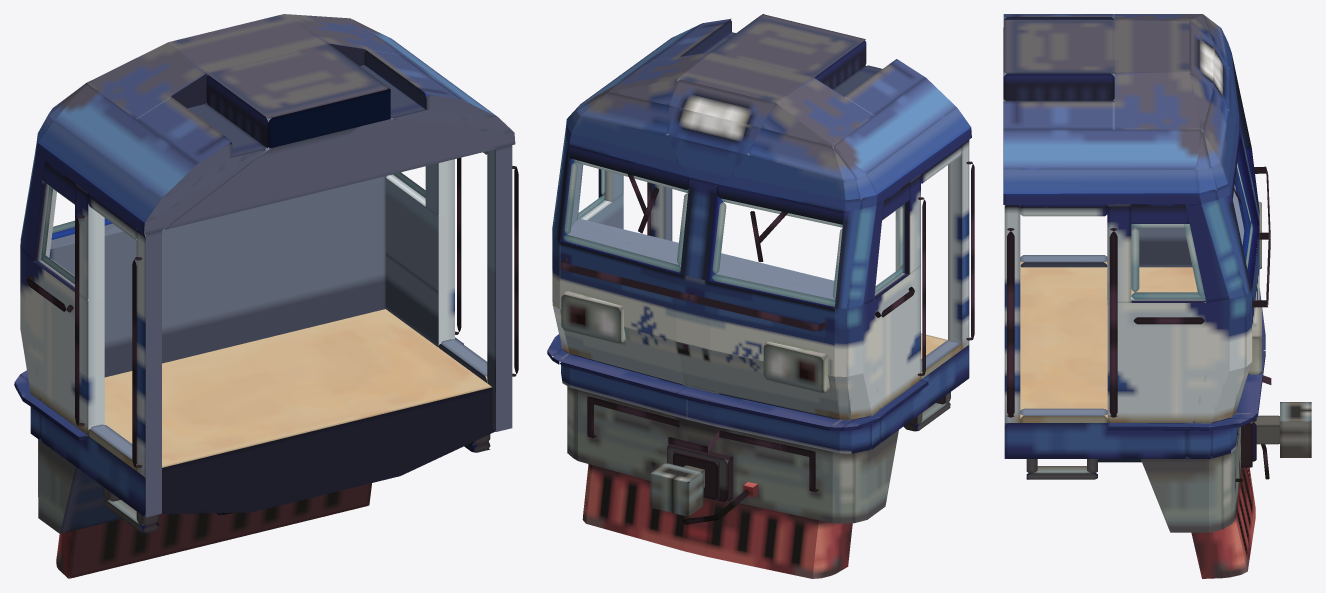
The model's file is df21_head.obj.
3 views of the same model, side by side, from view 1: azimuth 30°, elevation 25°; view 2: azimuth 150°, elevation 25°; view 3: azimuth 270°, elevation 25° (orthographic). The views are drawn at different scales.
Visible parts, largest first — view 1: cube_selection; view 2: cube_selection; view 3: cube_selection.
Part boxes in pixels (x1,y1,x2,y2): cube_selection: (14, 14, 518, 578); cube_selection: (547, 14, 974, 578); cube_selection: (1003, 14, 1311, 578).
Bounding box in the file's own units: 3.15 × 4.06 × 2.43.
